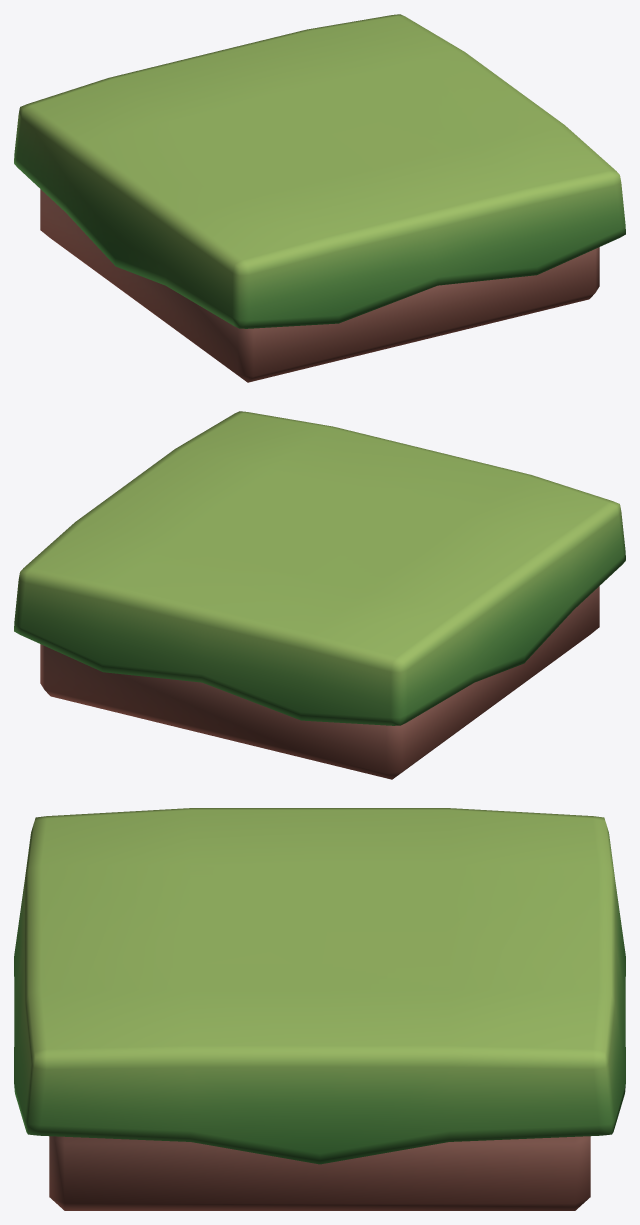
The model's file is Forest_CheckPoint.fbx.
The picture shows the model from 3 angles, top to bottom: view 1: azimuth 30°, elevation 25°; view 2: azimuth 150°, elevation 25°; view 3: azimuth 270°, elevation 25°; orthographic projection. The views are drawn at different scales.
Parts seen in each view (by area): view 1: Plane.010; view 2: Plane.010; view 3: Plane.010.
Part boxes in pixels (x1,y1,x2,y2): Plane.010: (14,14,625,382); Plane.010: (14,411,625,779); Plane.010: (14,808,625,1210).
Bounding box in the file's own units: 1131 × 357 × 1131.
